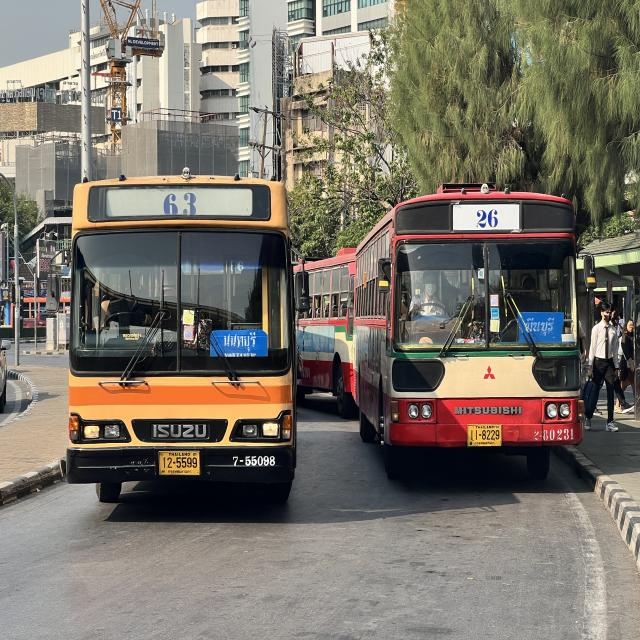BMTA-bus: (62, 177, 298, 503), (355, 189, 587, 480), (296, 249, 359, 422)
Bus Line Number: (156, 187, 202, 222), (470, 203, 503, 234)
Bus Side Number: (225, 449, 283, 470), (529, 425, 577, 445)
Destination Sign: (209, 328, 270, 358), (516, 308, 564, 342)
